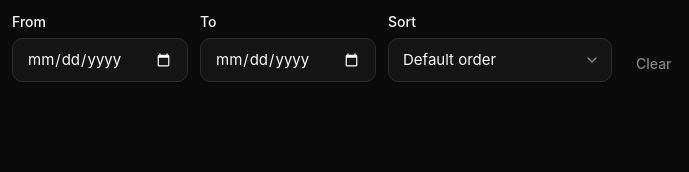
it: ListFilters — date range validation › rejects to < from when the later-bounded field is edited second
# to is set first (valid open window), then from overshoots it.
In the date field labelled "To": {"x": 288, "y": 60} [200,38,376,82], type "2026-10-05"
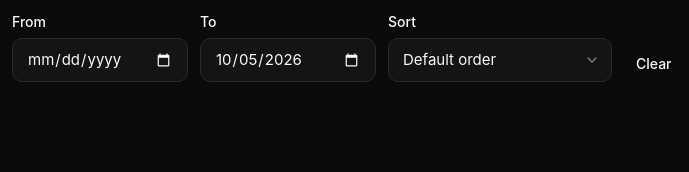
In the date field labelled "From": {"x": 100, "y": 60} [12,38,188,82], type "2026-10-10"
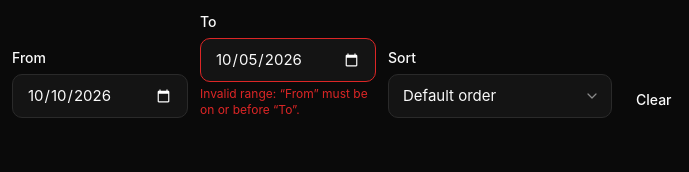
Expected: the text "Invalid range: “From” must be on or before “To”." is shown, [200,86,376,118]
